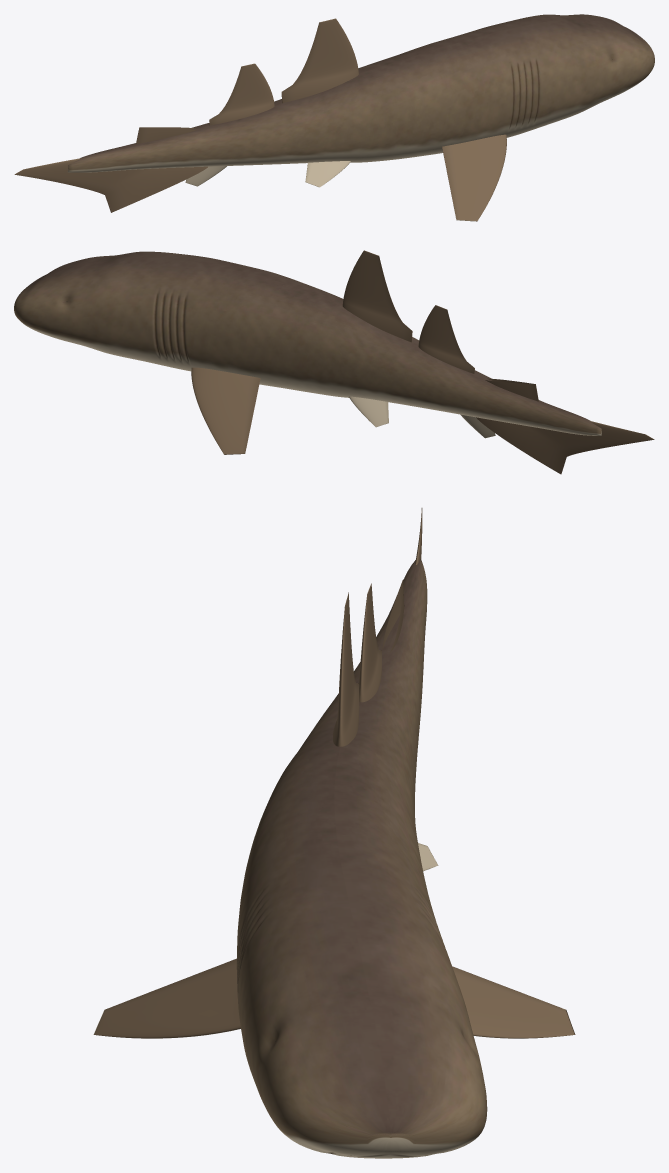
File: nurse_shark.glb
The picture shows the model from 3 angles, top to bottom: view 1: azimuth 30°, elevation 25°; view 2: azimuth 150°, elevation 25°; view 3: azimuth 270°, elevation 25°; orthographic projection. The views are drawn at different scales.
Visible parts, largest first — view 1: NurseShark_Body, NurseShark_Fins; view 2: NurseShark_Body, NurseShark_Fins; view 3: NurseShark_Body, NurseShark_Fins.
Part boxes in pixels (x1,y1,x2,y2): NurseShark_Body: (67,14,654,172); NurseShark_Fins: (14,18,506,221); NurseShark_Body: (14,251,601,435); NurseShark_Fins: (191,250,654,474); NurseShark_Body: (236,559,487,1158); NurseShark_Fins: (93,508,575,1038).
Size of the model in its own units: 2.4 by 0.6498 by 0.8052.
3 materials, 1 textured.
